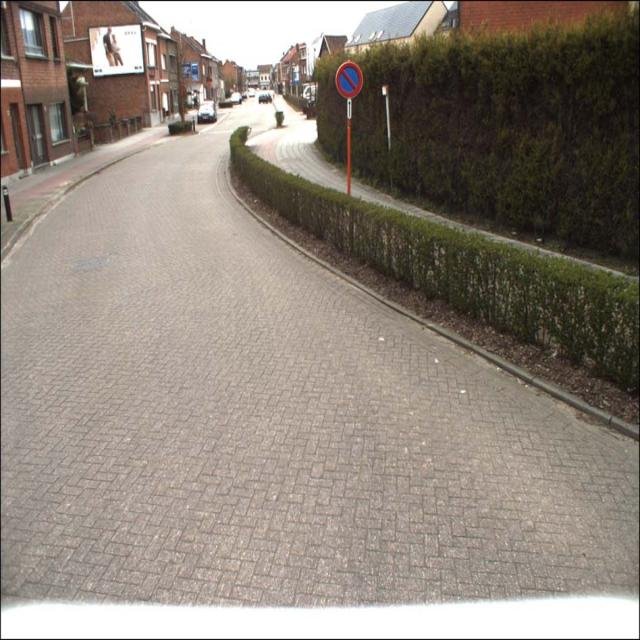parkyasak: (336, 63, 363, 98)
